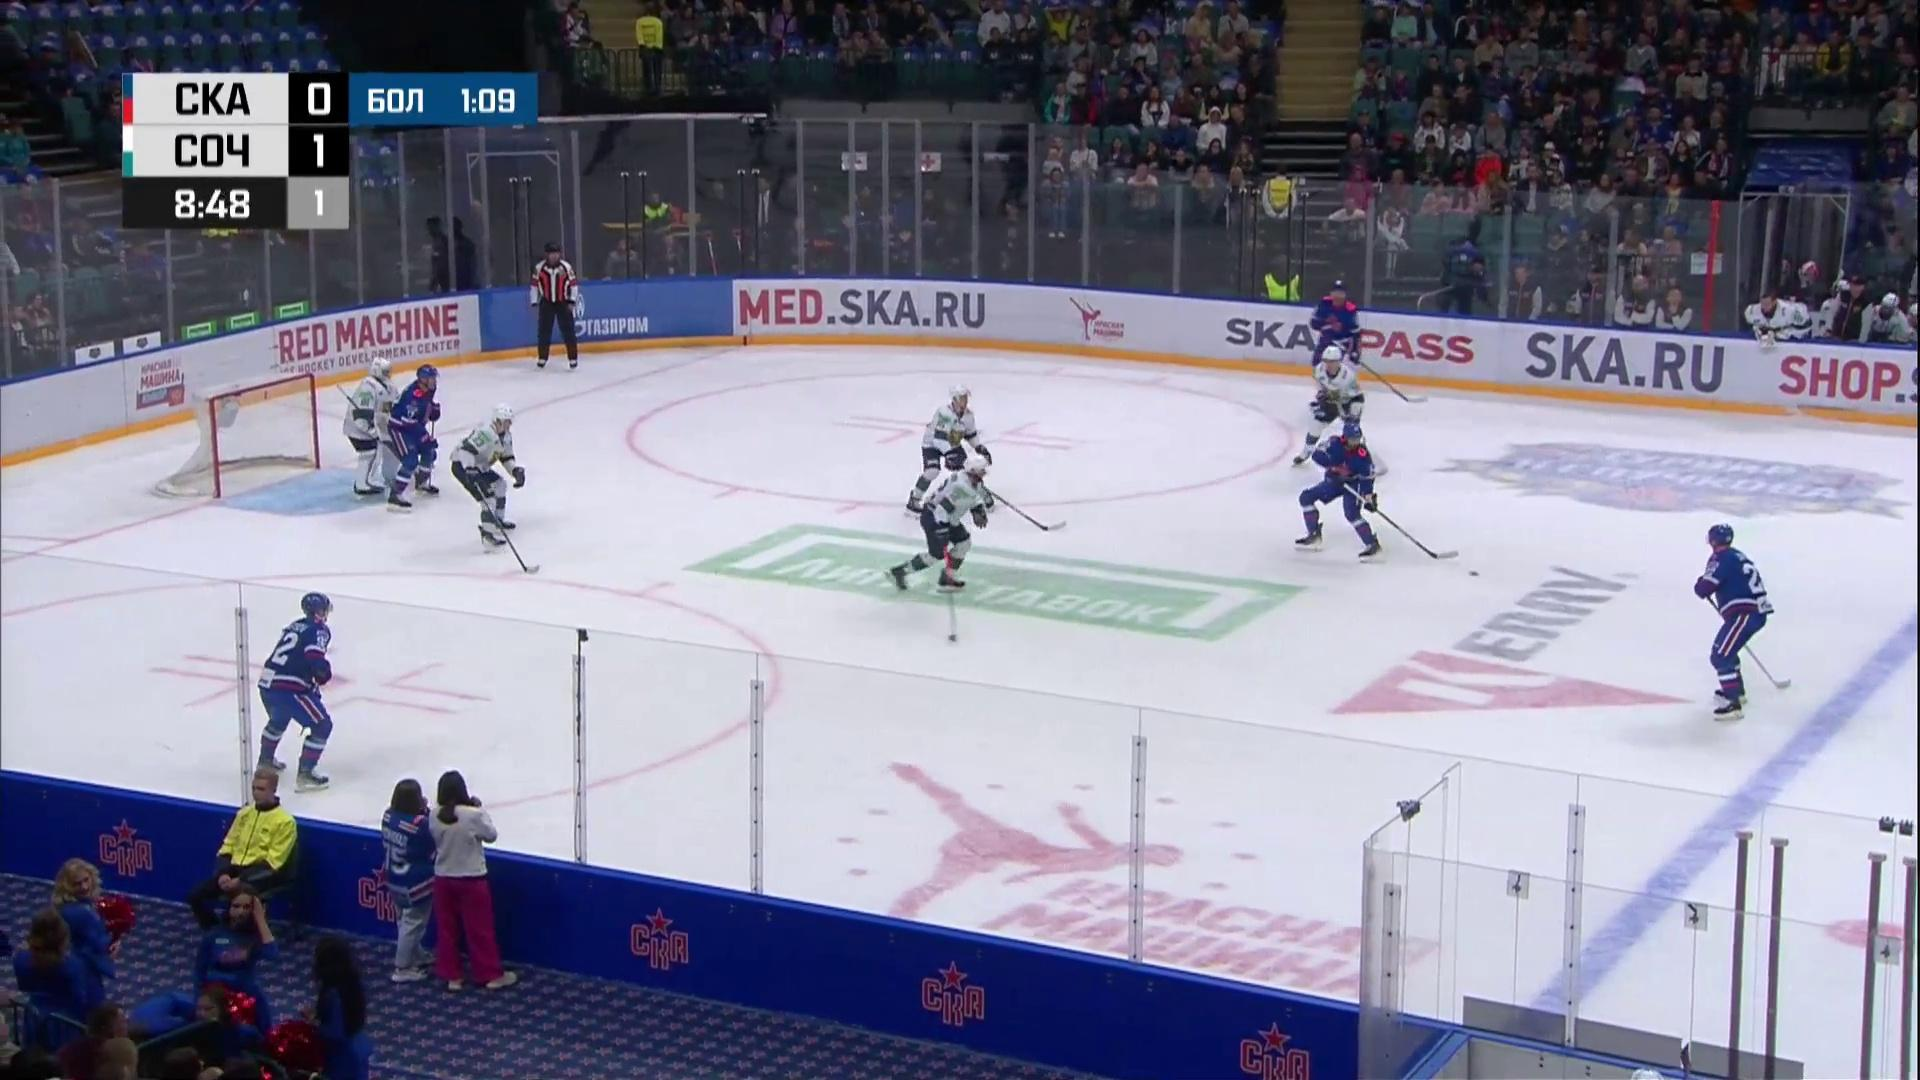ball: (1468, 570, 1480, 576)
